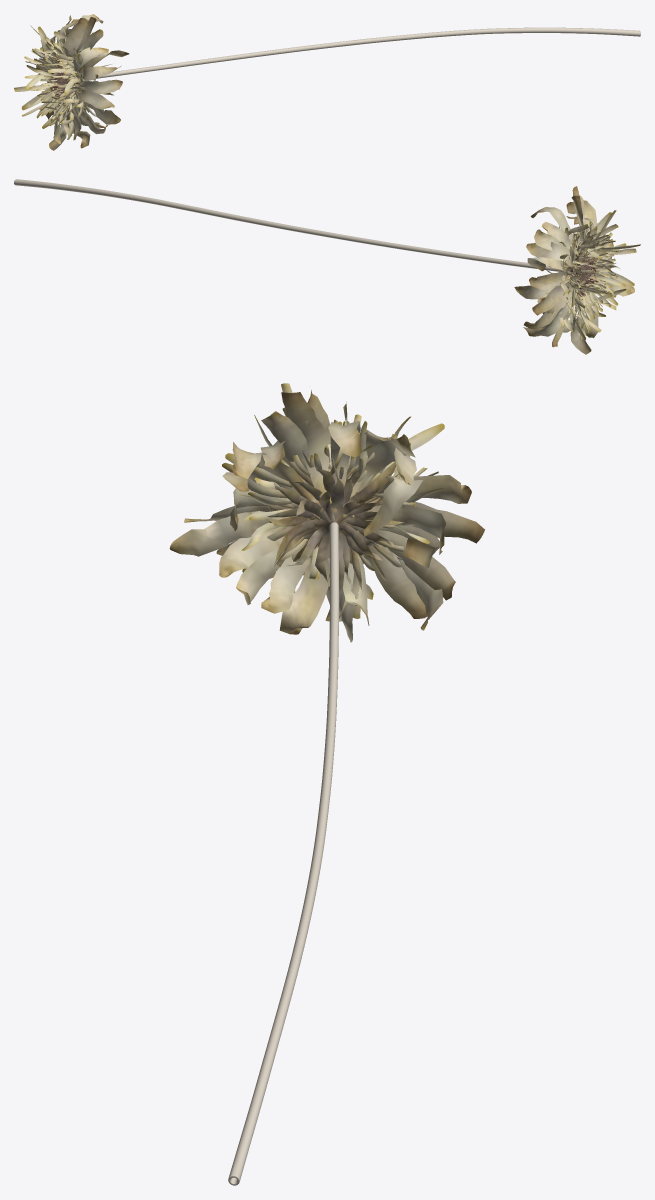
The model's file is gerbera.fbx.
The picture shows the model from 3 angles, top to bottom: view 1: azimuth 30°, elevation 25°; view 2: azimuth 150°, elevation 25°; view 3: azimuth 270°, elevation 25°; orthographic projection. The views are drawn at different scales.
Parts seen in each view (by area): view 1: GerberaFlower, GerberaStem; view 2: GerberaFlower, GerberaStem; view 3: GerberaFlower, GerberaStem.
Part boxes in pixels (left/top/right/bottom): GerberaFlower: left=14, top=14, right=129, bottom=150; GerberaStem: left=97, top=27, right=640, bottom=78; GerberaFlower: left=514, top=186, right=640, bottom=354; GerberaStem: left=14, top=179, right=563, bottom=271; GerberaFlower: left=169, top=383, right=484, bottom=642; GerberaStem: left=228, top=522, right=339, bottom=1185.
Size of what is drawn, in the model's own units: 27.2 by 6.38 by 6.14.
